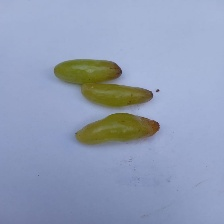grapes: (24, 18, 159, 190)
